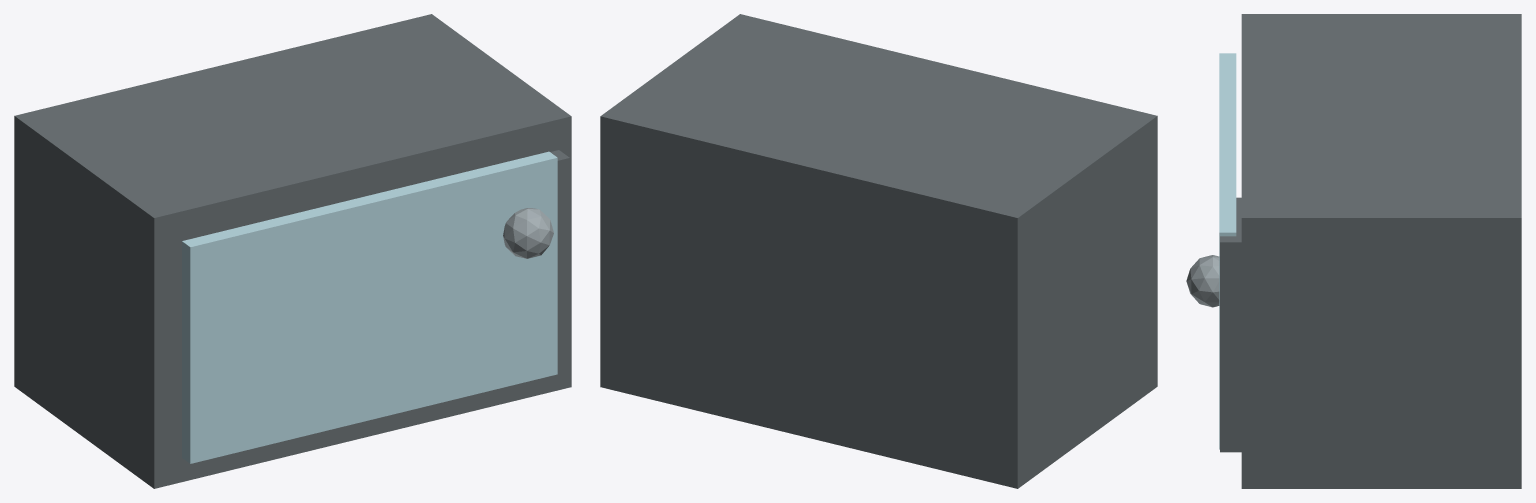
Rendered from microwave.glb.
The picture shows the model from 3 angles, left to right: view 1: azimuth 30°, elevation 25°; view 2: azimuth 150°, elevation 25°; view 3: azimuth 270°, elevation 25°; orthographic projection.
Parts seen in each view (by area): view 1: part_00, part_01, part_02, part_03; view 2: part_00; view 3: part_00, part_02, part_01, part_03.
Boxes of the visible parts, left/top/right/bottom form: part_00: left=14, top=14, right=571, bottom=488; part_01: left=182, top=151, right=557, bottom=463; part_02: left=550, top=150, right=569, bottom=370; part_03: left=503, top=208, right=553, bottom=258; part_00: left=600, top=14, right=1157, bottom=488; part_00: left=1241, top=14, right=1521, bottom=488; part_02: left=1220, top=197, right=1241, bottom=452; part_01: left=1219, top=53, right=1236, bottom=449; part_03: left=1186, top=255, right=1219, bottom=307.
Size of the model in its own units: 1 by 0.62 by 0.695.
